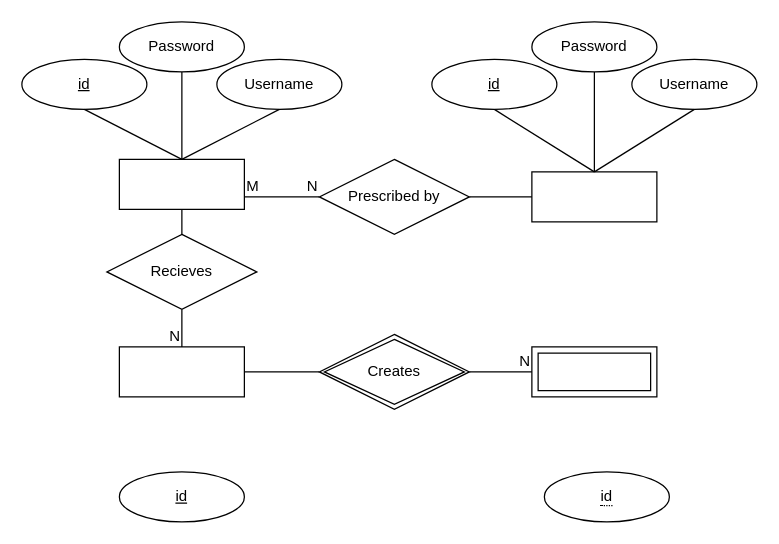
Some shapes in this 779 by 544 pixel diagram are drawn without their labels. Each missing label, with the box of its shape:
DailyDose: (531, 346, 657, 397)
Doctor: (531, 171, 657, 222)
Patient: (118, 158, 244, 209)
Prescription: (118, 346, 244, 397)
